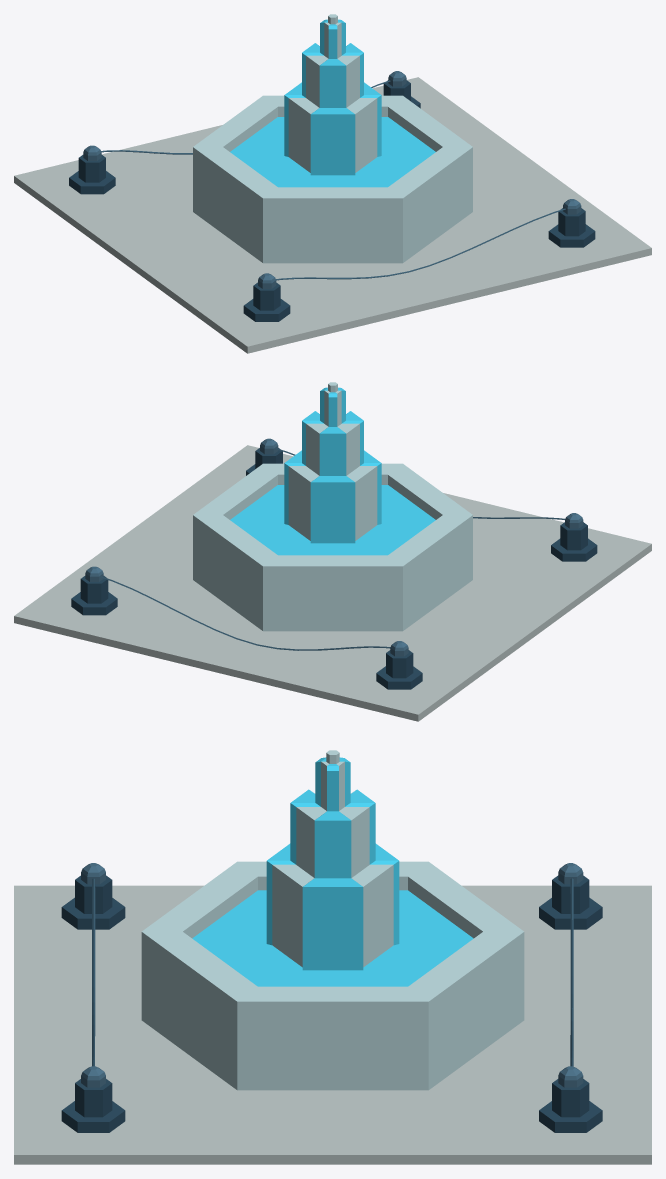
The model's file is Fountain.fbx.
The picture shows the model from 3 angles, top to bottom: view 1: azimuth 30°, elevation 25°; view 2: azimuth 150°, elevation 25°; view 3: azimuth 270°, elevation 25°; orthographic projection. The views are drawn at different scales.
Parts seen in each view (by area): view 1: Fountain; view 2: Fountain; view 3: Fountain.
Part boxes in pixels (x1,y1,x2,y2): Fountain: (14, 14, 651, 353); Fountain: (14, 382, 651, 721); Fountain: (14, 750, 651, 1164).
Bounding box in the file's own units: 300 × 144 × 300.
